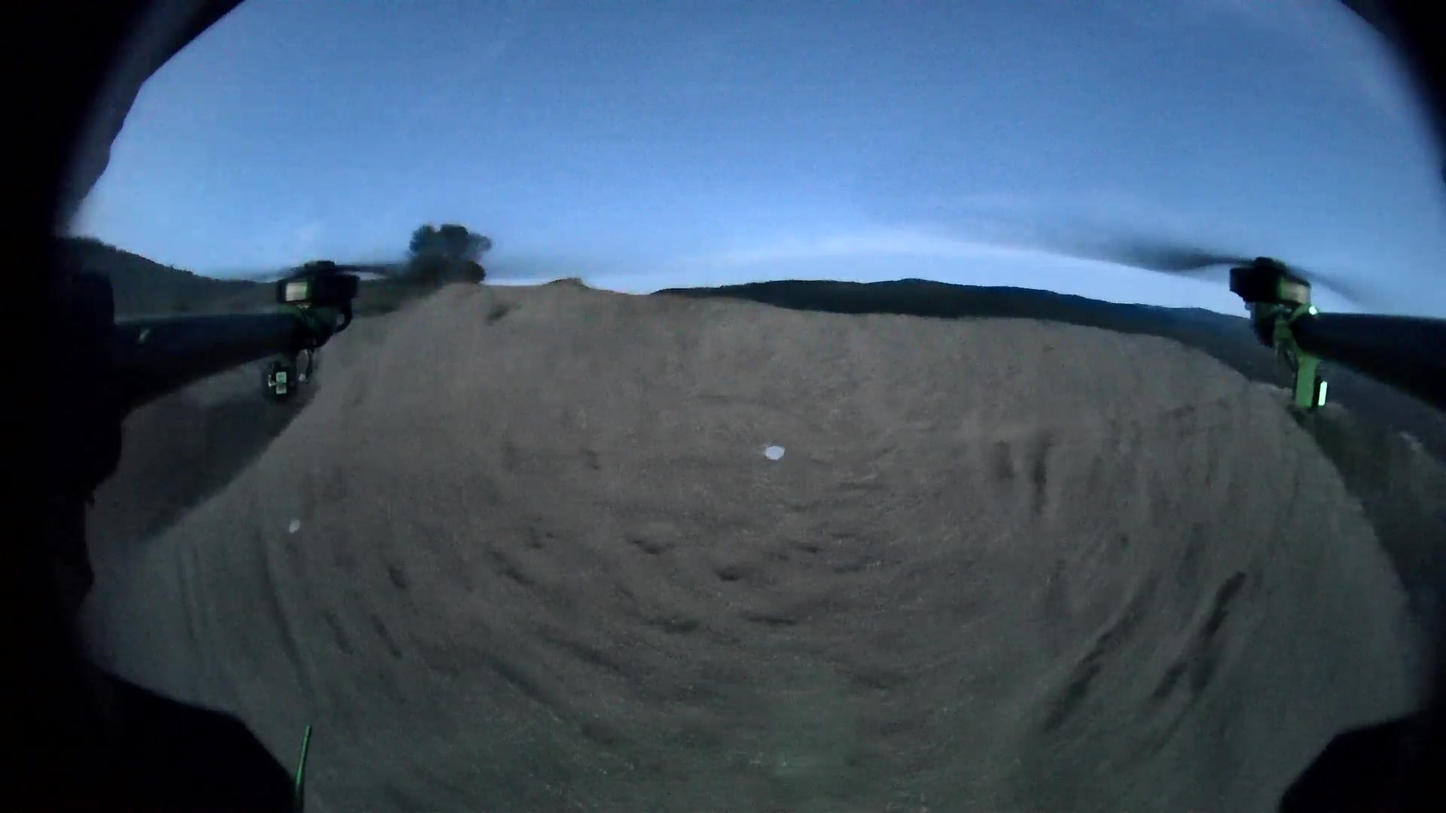Target: (765, 445, 786, 459)
